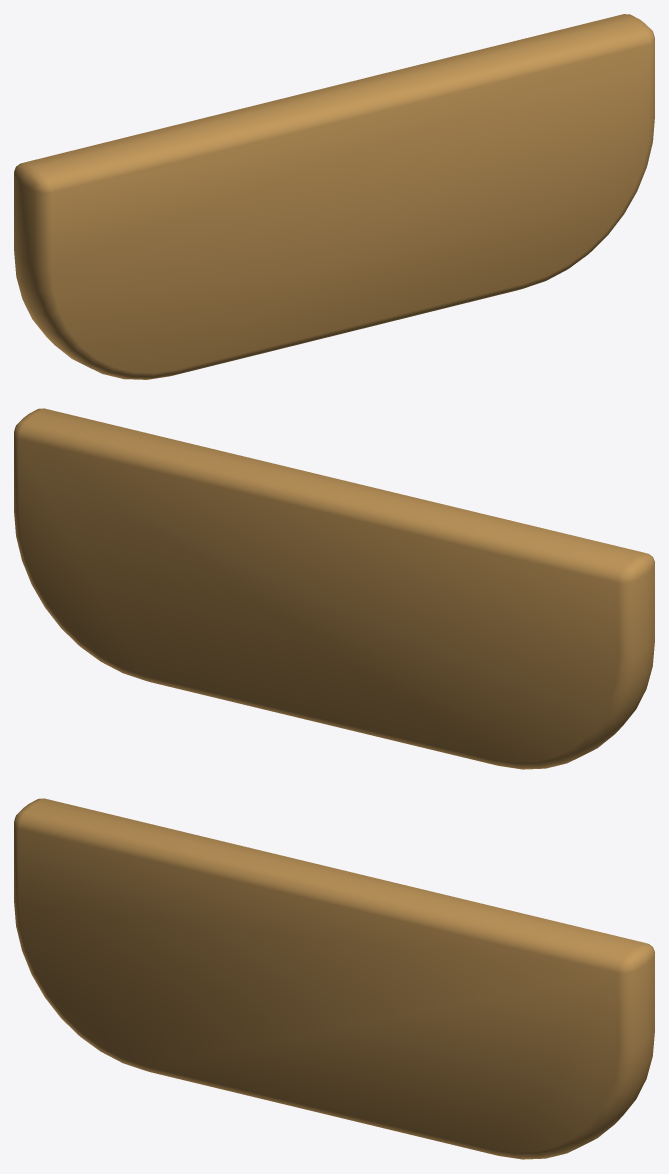
File: C.Item.05.glb
3 views of the same model, one above another, from view 1: azimuth 30°, elevation 25°; view 2: azimuth 150°, elevation 25°; view 3: azimuth 330°, elevation 25° (orthographic).
Visible parts, largest first — view 1: C.Item.05; view 2: C.Item.05; view 3: C.Item.05.
Boxes of the visible parts, box(x1,y1,x2,y2) form: C.Item.05: box(14, 14, 654, 379); C.Item.05: box(14, 408, 654, 769); C.Item.05: box(14, 798, 654, 1159).
Bounding box in the file's own units: 0.2341 × 0.0837 × 0.0226.
